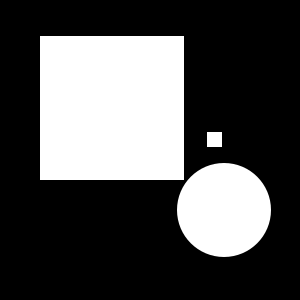circle: (40, 36, 184, 180), (207, 132, 222, 147)
rectangle: (177, 163, 271, 257)
triangle: (95, 48, 160, 113)
